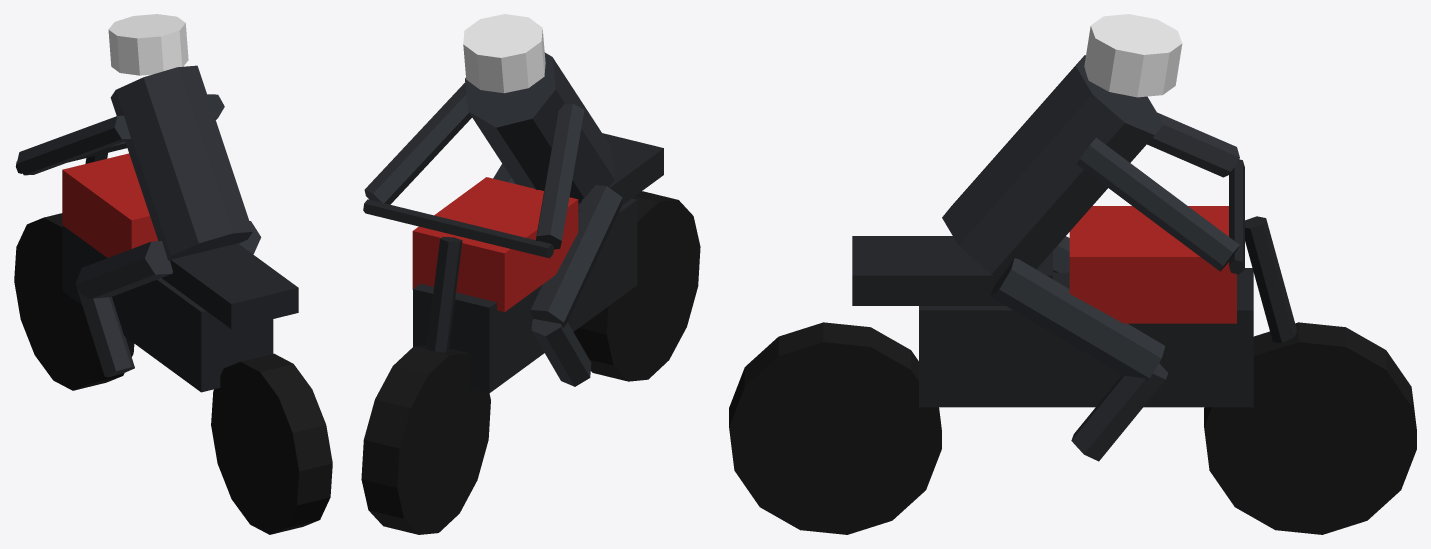
The model's file is motorbike.glb.
3 views of the same model, side by side, from view 1: azimuth 30°, elevation 25°; view 2: azimuth 150°, elevation 25°; view 3: azimuth 270°, elevation 25° (orthographic). The views are drawn at different scales.
Parts seen in each view (by area): view 1: motorbike; view 2: motorbike; view 3: motorbike.
Part boxes in pixels (bbox=[...]): motorbike: bbox=[14, 14, 332, 534]; motorbike: bbox=[361, 14, 700, 534]; motorbike: bbox=[729, 14, 1416, 534].
Bounding box in the file's own units: 0.7731 × 1.64 × 2.06.
